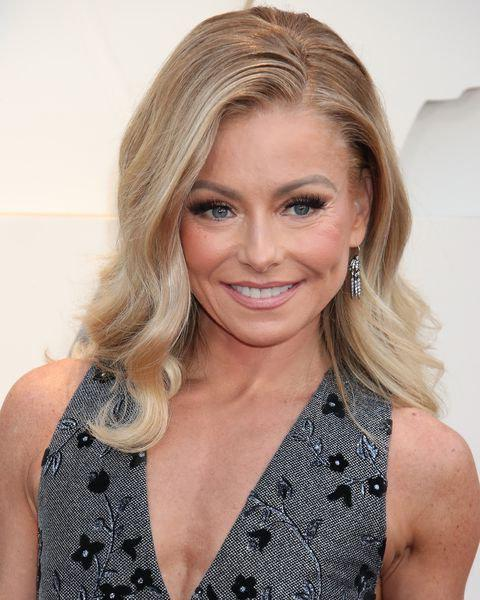Sober: (188, 114, 346, 337)
